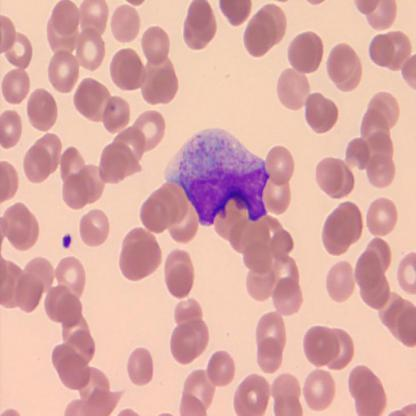Myelocyte: (166, 125, 270, 226)
